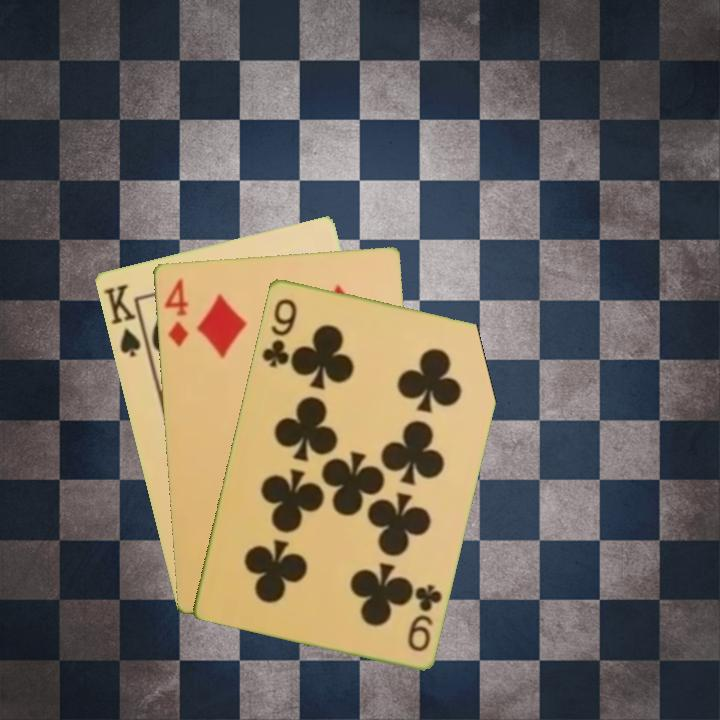4d: (160, 274, 191, 350)
9c: (258, 294, 300, 370), (403, 580, 445, 654)
Ks: (99, 280, 143, 360)
